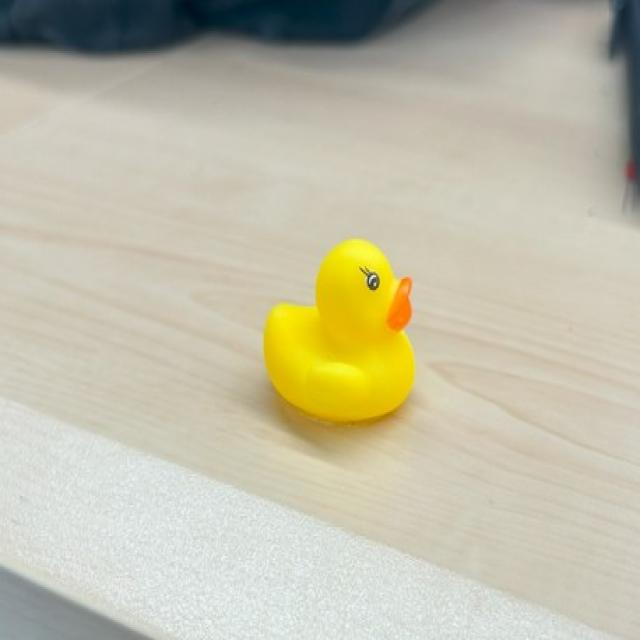duck_regular: (251, 213, 429, 441)
